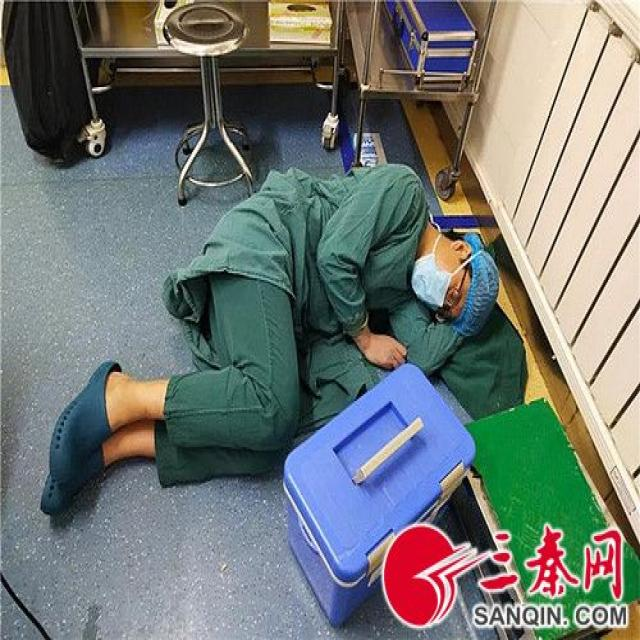fall: (44, 172, 497, 514)
